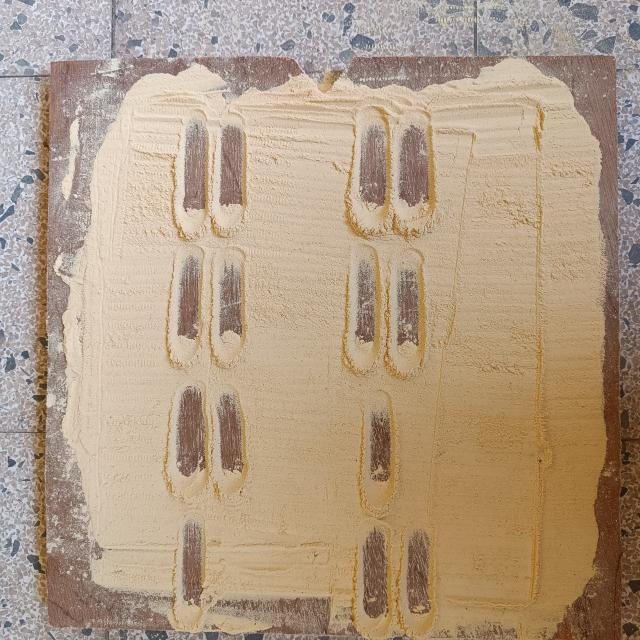double: (338, 236, 431, 385), (344, 101, 442, 238), (162, 372, 252, 510), (165, 238, 255, 372), (348, 516, 443, 639), (167, 111, 254, 239)
single: (165, 508, 212, 630), (359, 387, 402, 515)
